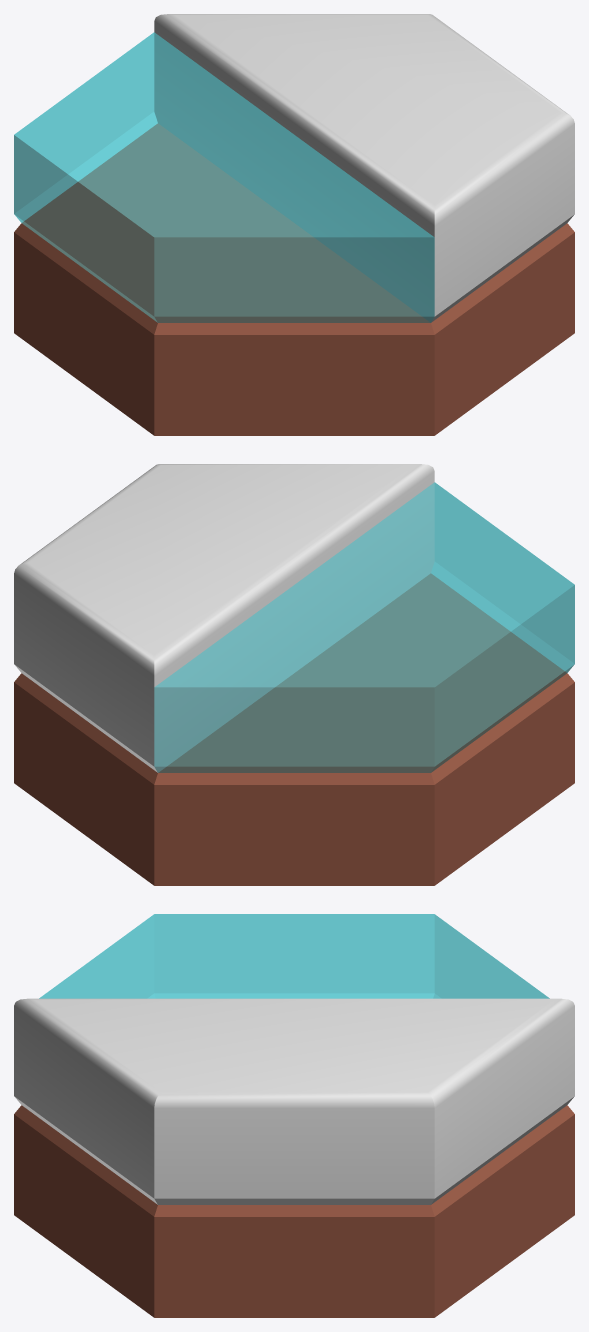
Rendered from hex_snow_waterB_detail.fbx.
3 renders of one model, top to bottom at view 1: azimuth 30°, elevation 25°; view 2: azimuth 150°, elevation 25°; view 3: azimuth 270°, elevation 25°, orthographic.
Visible parts, largest first — view 1: hex_snow_waterB_detail; view 2: hex_snow_waterB_detail; view 3: hex_snow_waterB_detail.
Part boxes in pixels (x1,y1,x2,y2): hex_snow_waterB_detail: (14, 14, 574, 435); hex_snow_waterB_detail: (14, 464, 574, 885); hex_snow_waterB_detail: (14, 914, 574, 1317).
Size of the model in its own units: 2 by 1 by 2.31.
